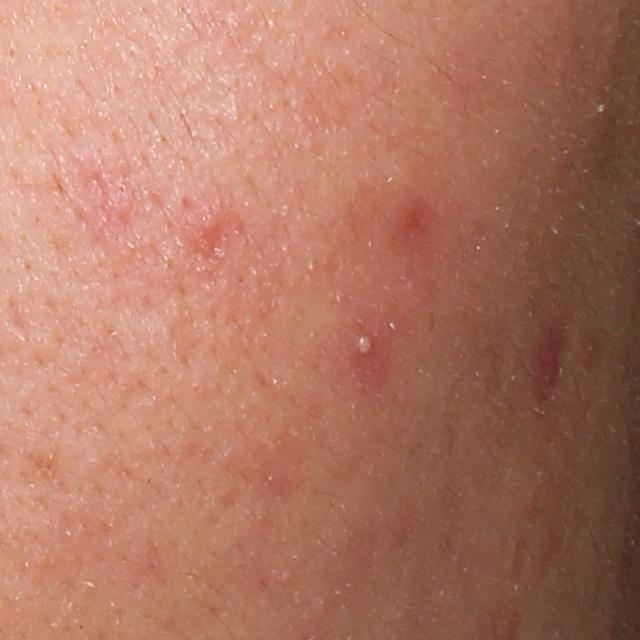atrophic_scar: (534, 317, 579, 401), (0, 292, 37, 340)
papule: (199, 210, 222, 237)
pustule: (350, 324, 381, 364)
